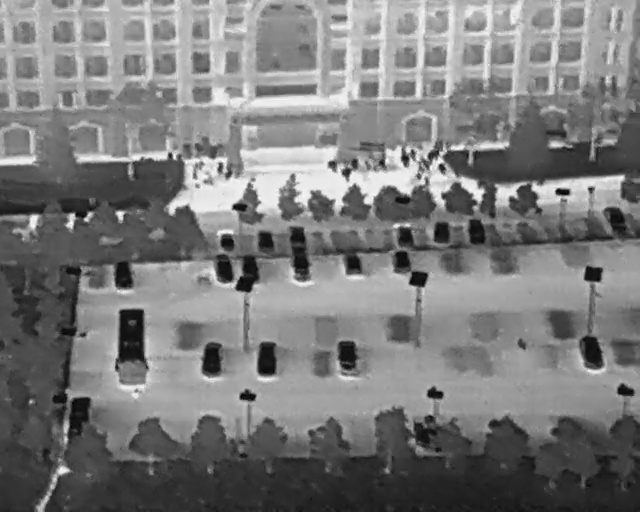Bicycle: (425, 144, 443, 163), (398, 146, 411, 169), (413, 162, 428, 181), (220, 166, 235, 182), (435, 159, 449, 176), (407, 146, 420, 164), (341, 165, 353, 184), (325, 158, 338, 174), (378, 157, 388, 170), (194, 159, 205, 170), (350, 159, 358, 170), (192, 166, 198, 180), (217, 162, 223, 174), (168, 150, 174, 161), (176, 154, 183, 161)
Car: (576, 333, 606, 373), (67, 395, 92, 440), (600, 200, 631, 236), (255, 341, 278, 378), (289, 250, 313, 285), (201, 342, 223, 379), (212, 252, 235, 285), (337, 338, 357, 374), (113, 260, 135, 290), (342, 250, 365, 278), (390, 247, 413, 275), (240, 253, 260, 283), (467, 216, 487, 246), (216, 227, 237, 255), (396, 221, 416, 248), (256, 228, 275, 256), (287, 222, 306, 250), (432, 218, 451, 245)
OtherVehicle: (113, 306, 149, 389)
